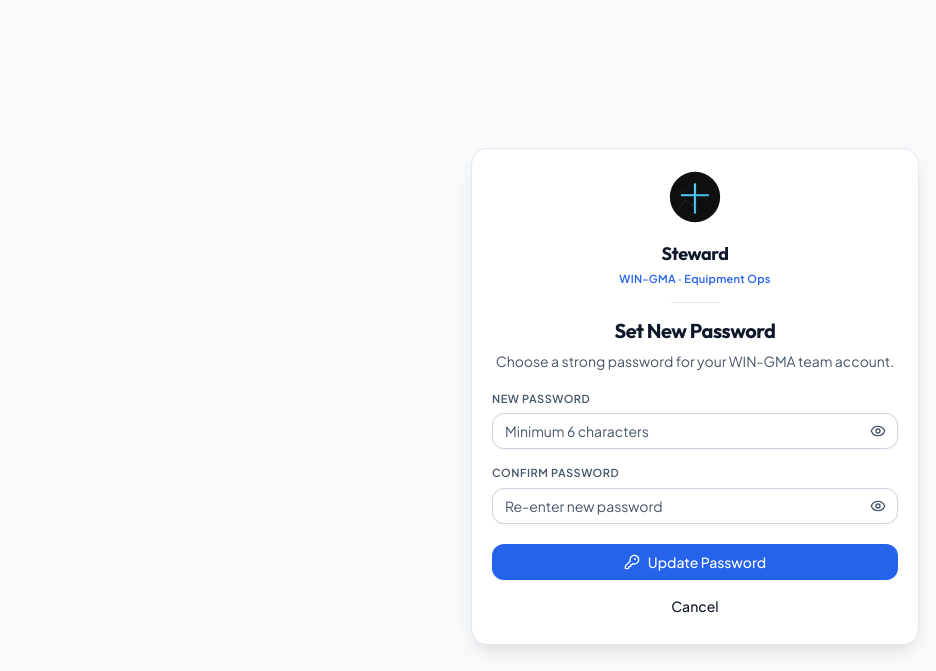
Test: Auth UI flows (WelcomeGateway, AuthModal, AccountSettingsDialog, ResetPasswordPage) › submits ResetPasswordPage and navigates to /dashboard on success
Step 1. Type "bandpass99" into the password field labelled "New Password" → (695, 431), box [492,413,898,449]
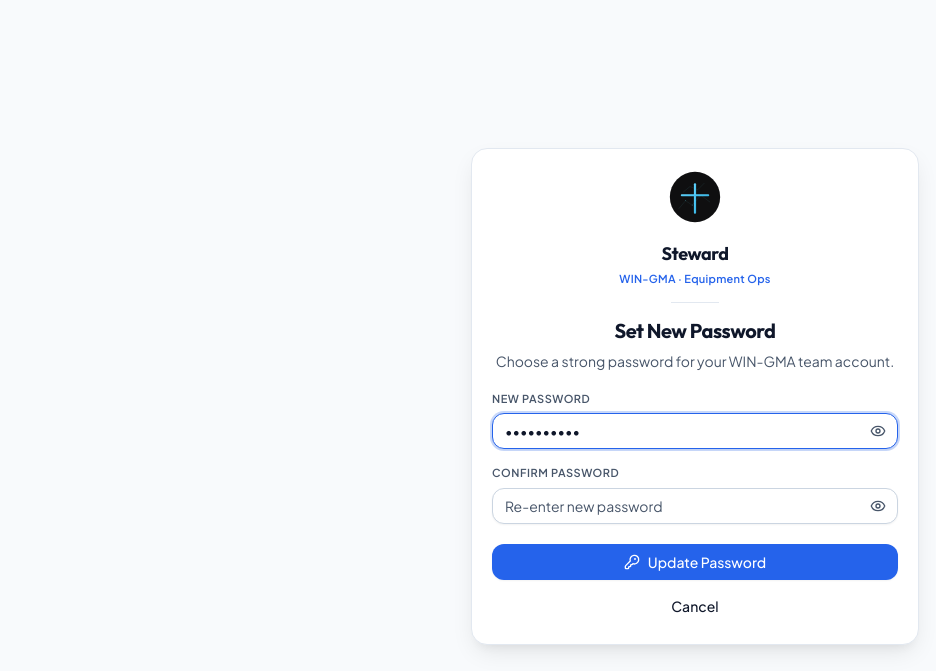
Step 2. Type "bandpass99" into the password field labelled "Confirm Password" → (695, 506), box [492,488,898,524]
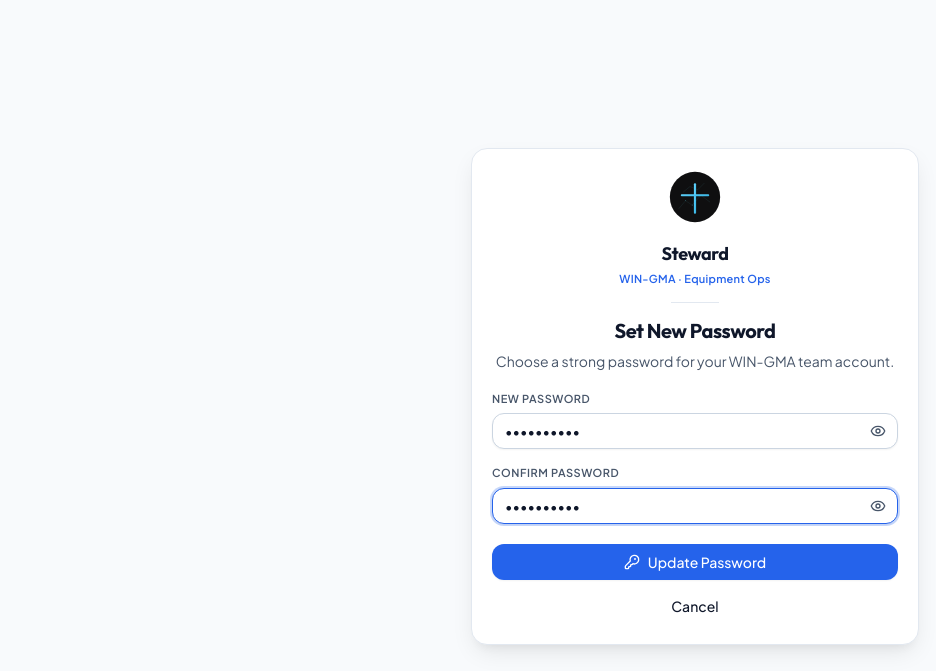
Step 3. Click the button "Update Password" → (695, 562), box [492,544,898,580]
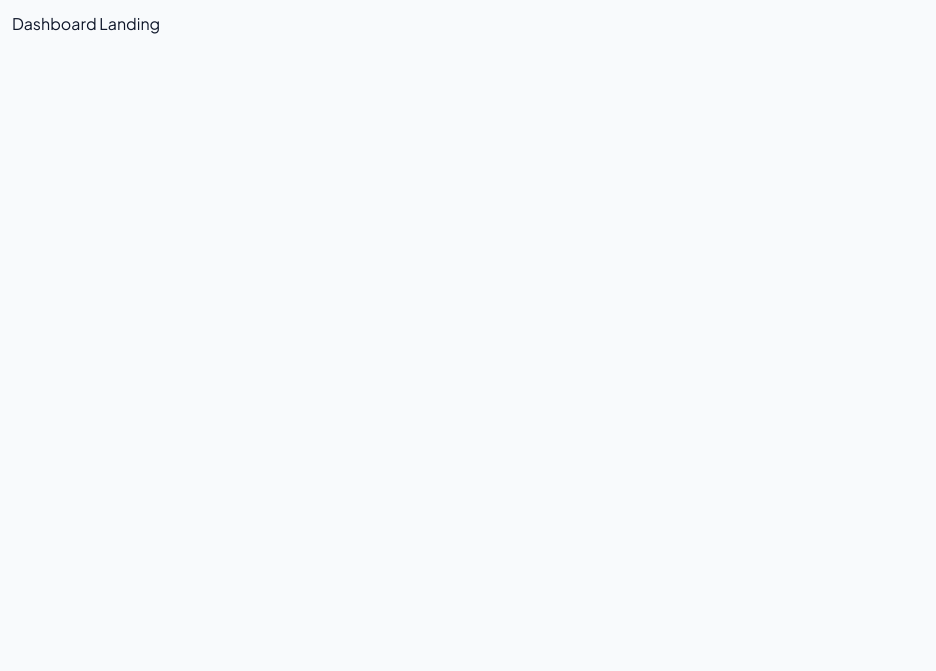
Now the text "Dashboard Landing" is shown, box [12,13,160,34]
